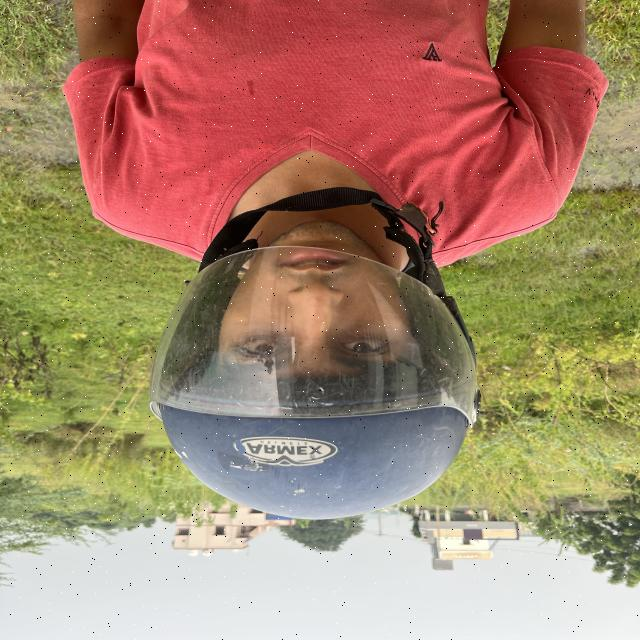Helmet: (152, 244, 477, 519)
